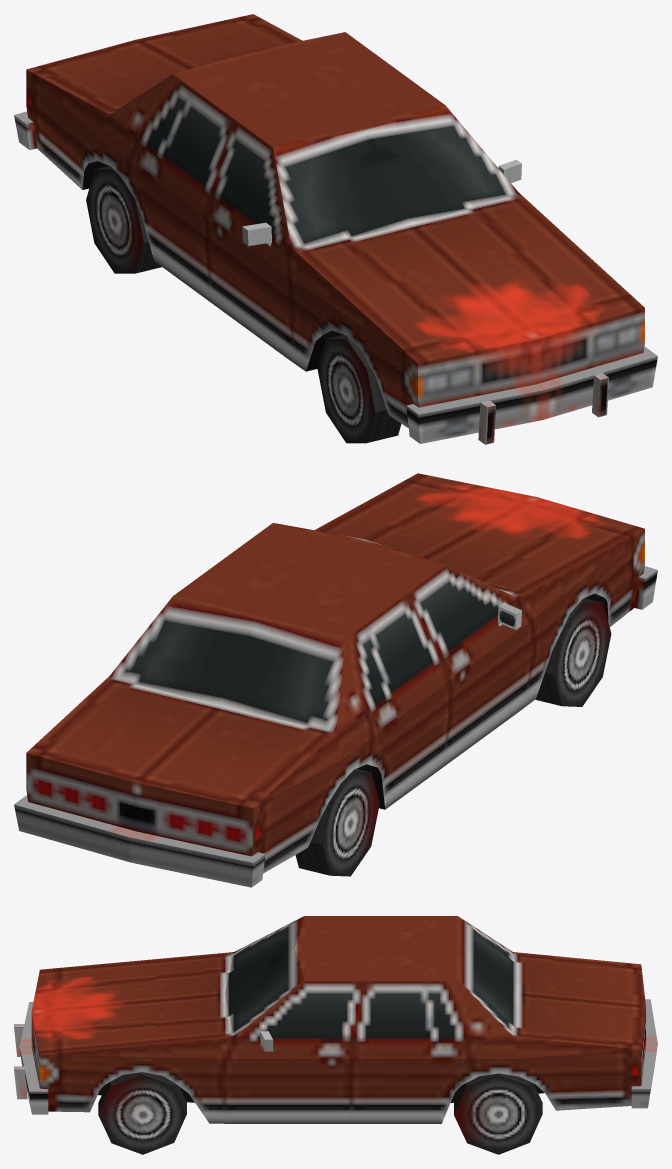
The model's file is Car5.fbx.
3 renders of one model, top to bottom at view 1: azimuth 30°, elevation 25°; view 2: azimuth 150°, elevation 25°; view 3: azimuth 270°, elevation 25°, orthographic. The views are drawn at different scales.
Parts seen in each view (by area): view 1: Car5; view 2: Car5; view 3: Car5.
Boxes of the visible parts, x1=… form: Car5: x1=14, y1=14, x2=657, y2=444; Car5: x1=14, y1=473, x2=657, y2=887; Car5: x1=14, y1=916, x2=657, y2=1154.
Size of the model in its own units: 278 by 205 by 737.
1 material, 1 textured.
